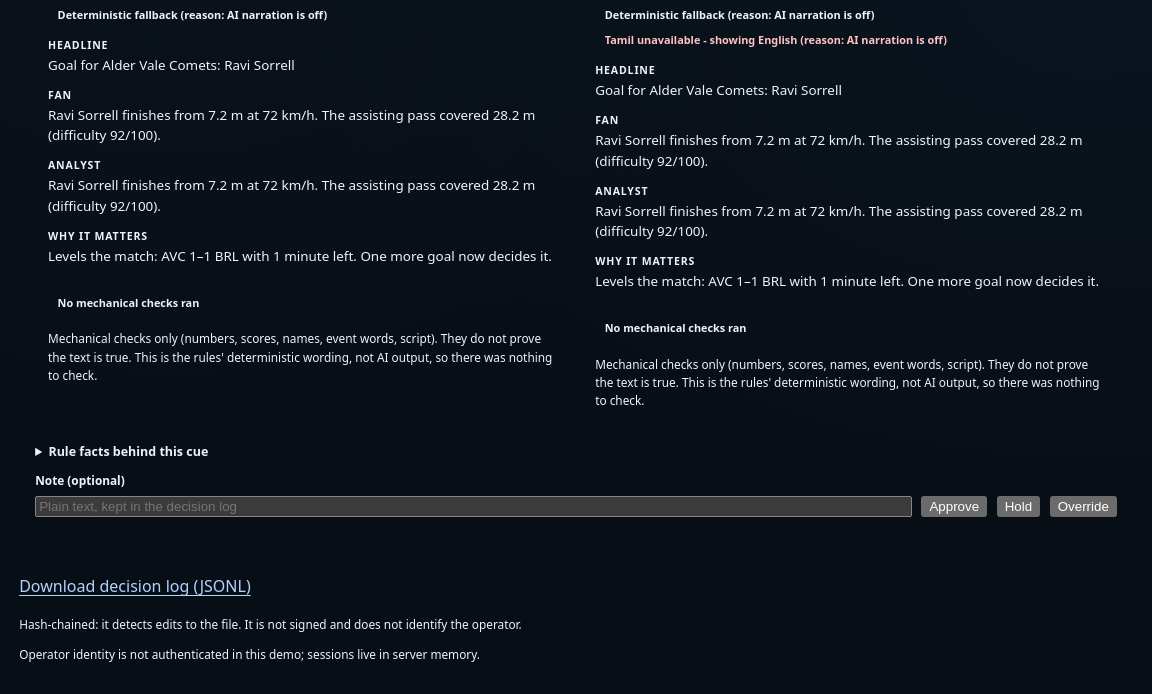
Test case: OperatorDesk decisions › approves with the hash of the proposal on screen and the typed note, then switches every control off and moves focus to the result
(page scrolled)
Type "  Checked against the replay  " into the field labelled "Note (optional)". click: (474, 506)
box: [35,496,912,517]
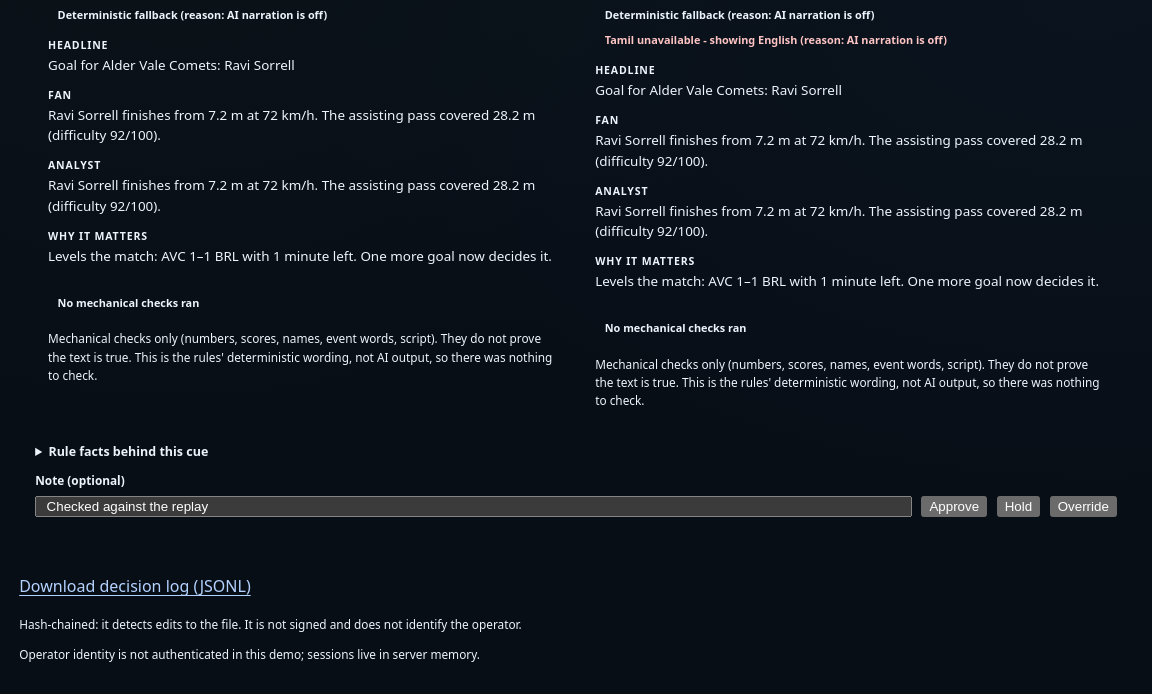
Click the button "Approve". click: (954, 506)
box: [921,496,987,517]
(page scrolled)
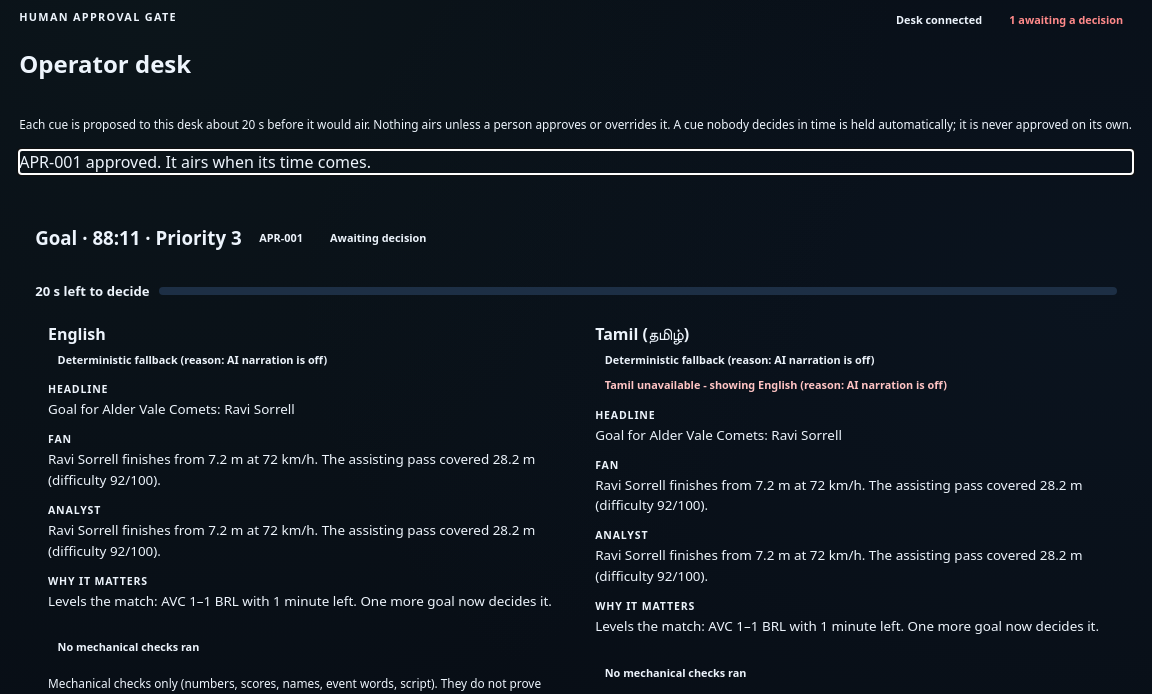
Expected: the message with test id "desk-outcome" reads "APR-001 approved. It airs when its time comes.", [19,151,371,173]
